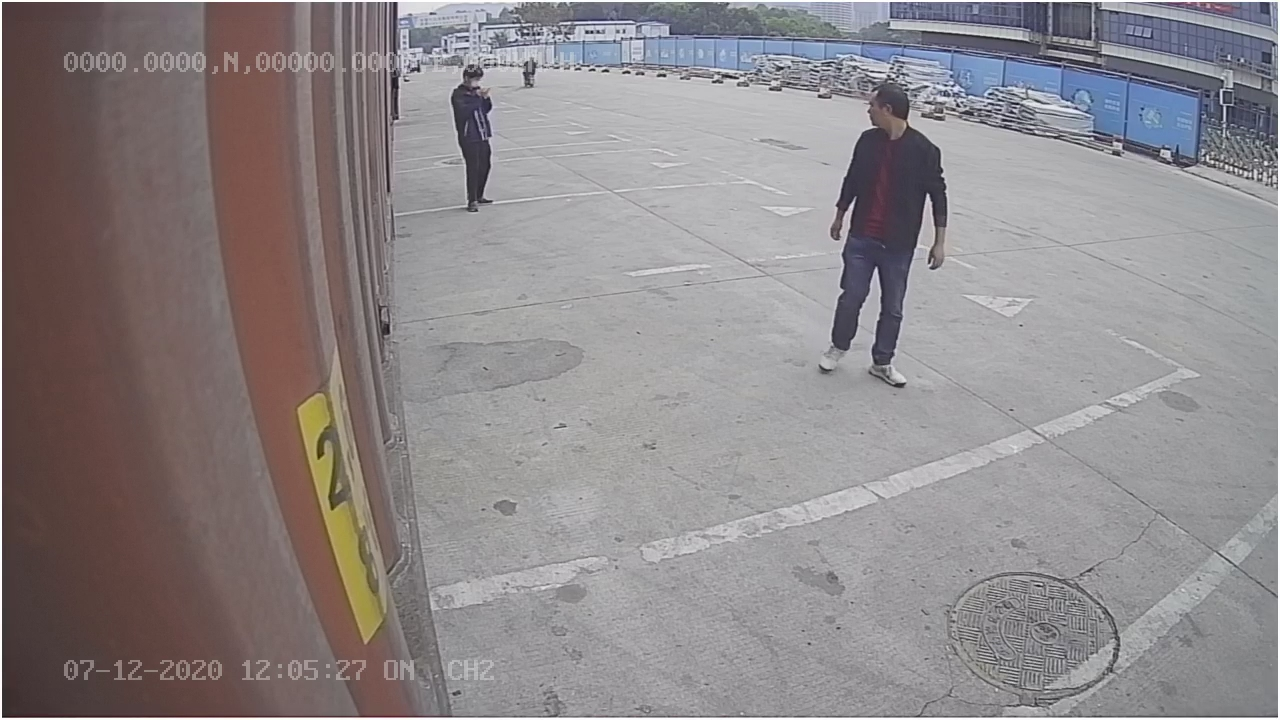person: (819, 79, 950, 392)
